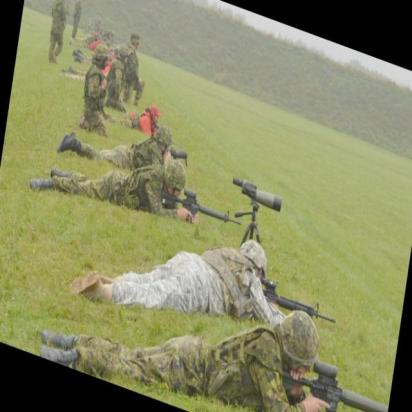Gun: (270, 347, 391, 412), (157, 179, 245, 239), (257, 268, 340, 327)
